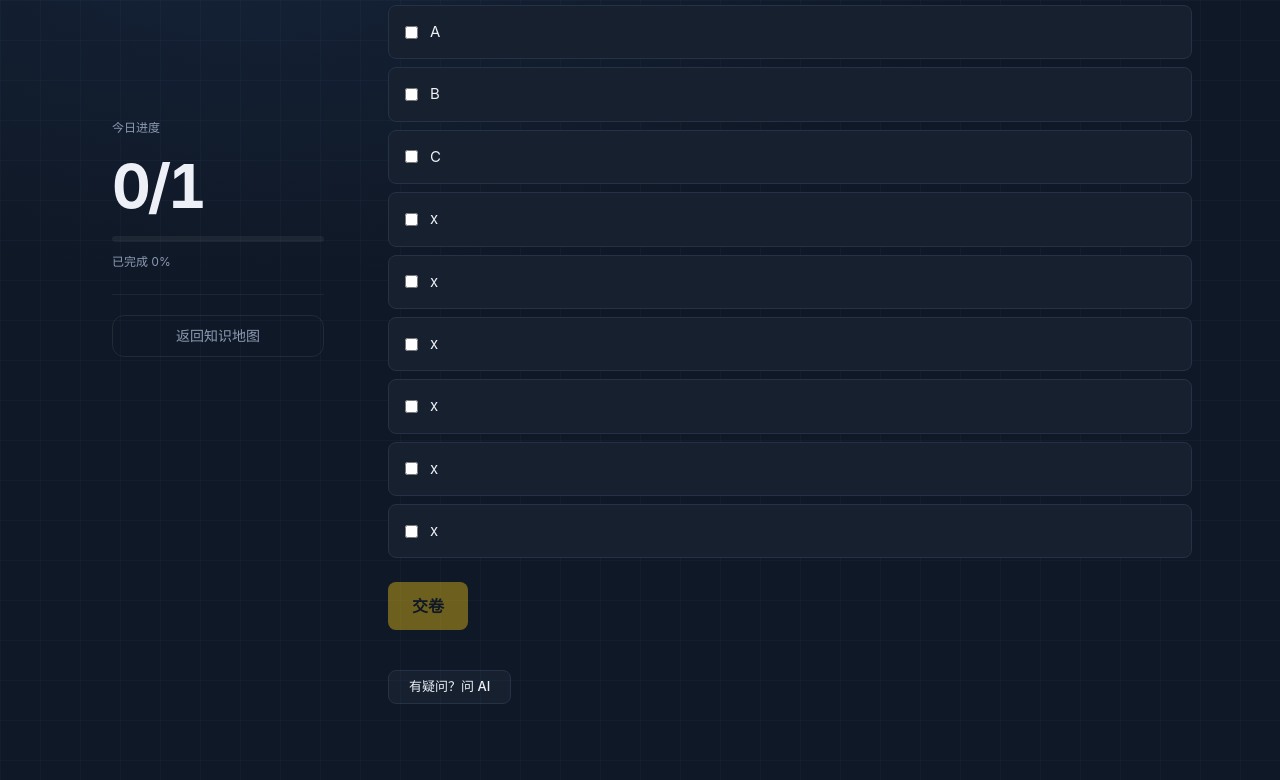
Test: 每轮思考各归各轮：第二轮提问不串上一轮的思考
(page scrolled)
Click the button "有疑问？问 AI".
click(450, 687)  # box [388,670,511,704]
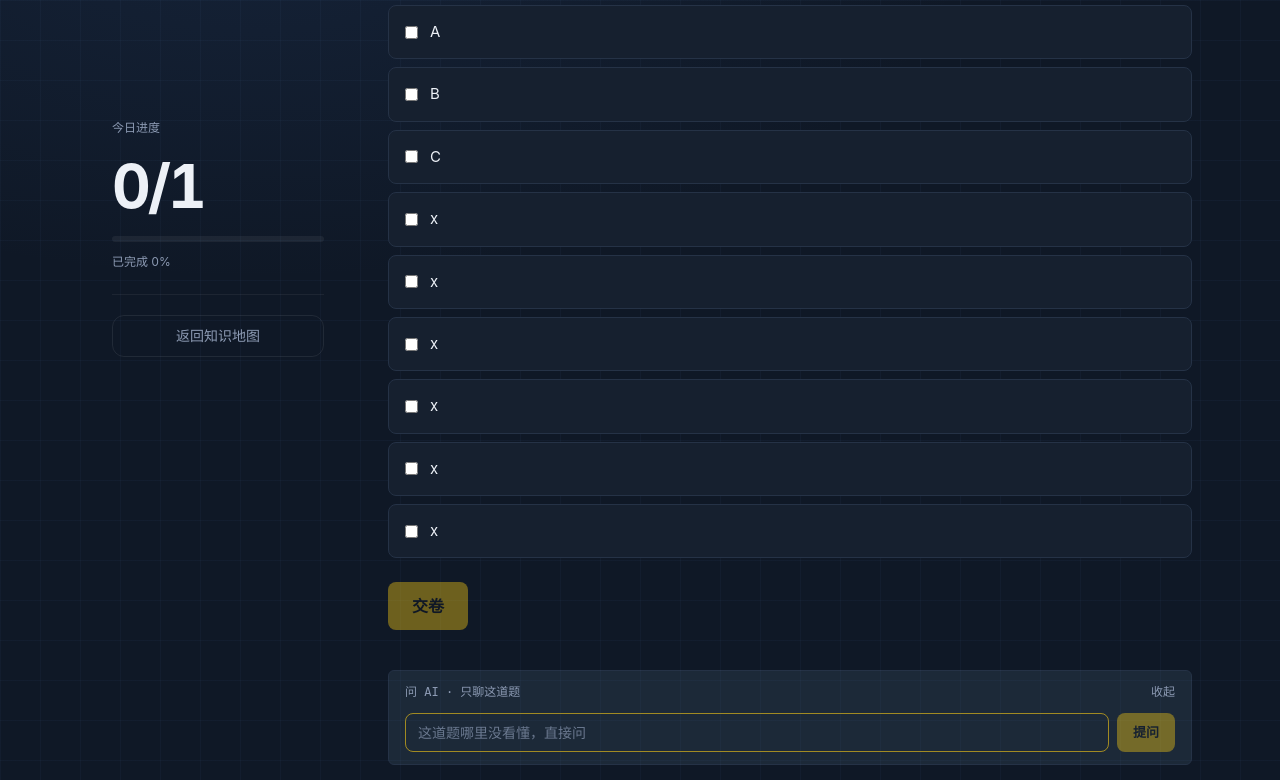
Type "第一问" into the field named "向 AI 提问".
click(757, 733); type("第一问")  # box [405,713,1109,752]
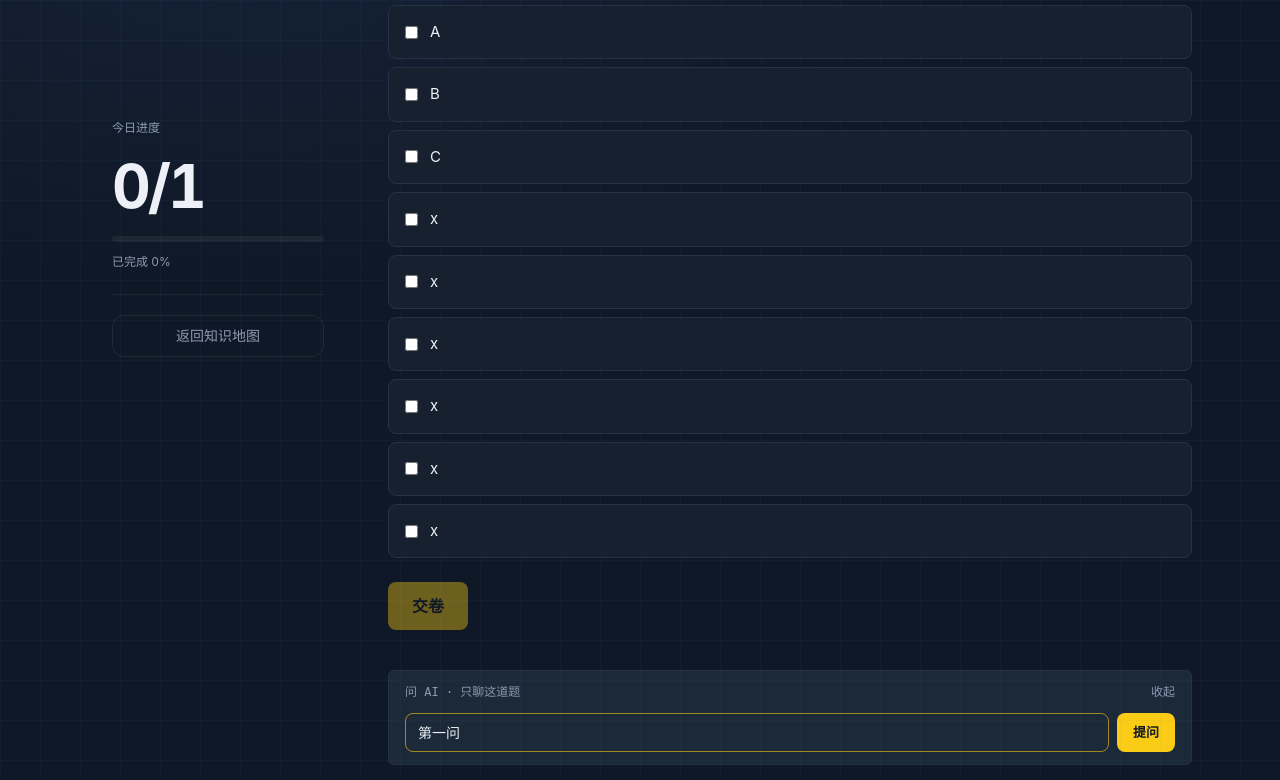
Click the button "提问".
click(1146, 733)  # box [1117,713,1175,752]
(page scrolled)
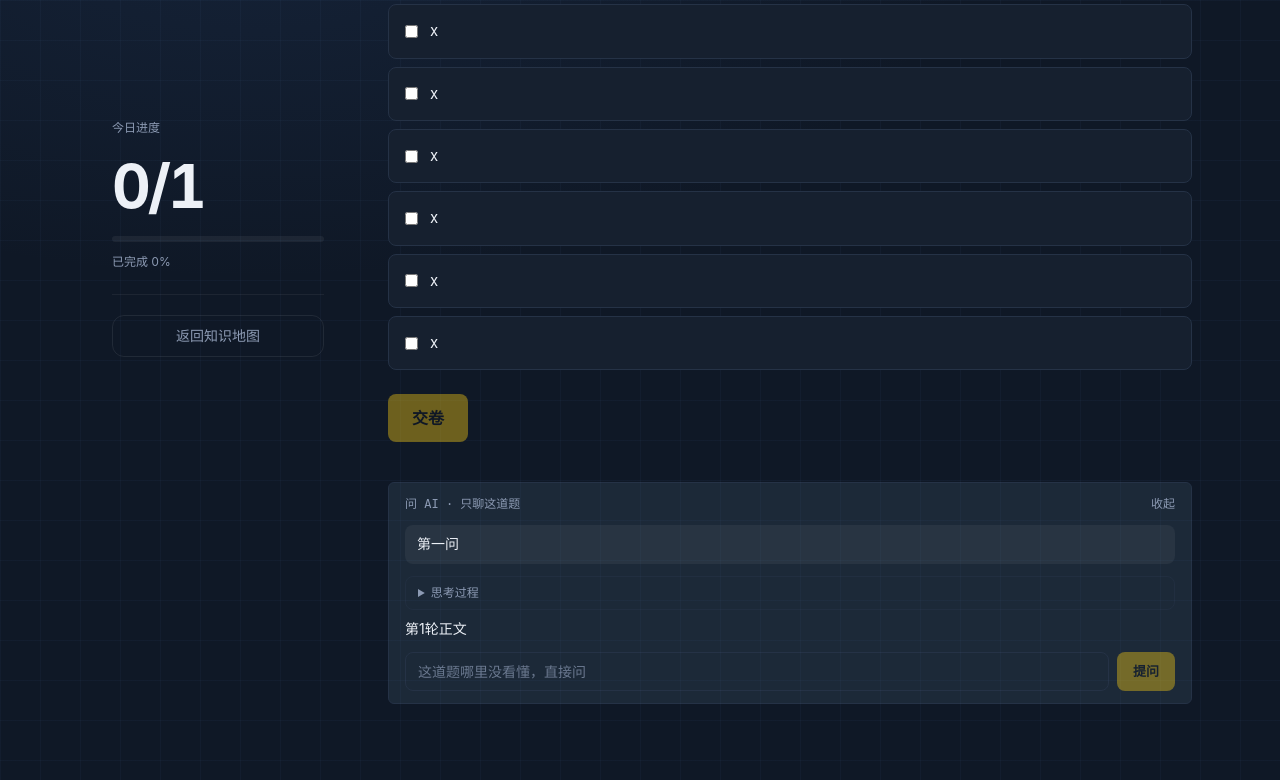
Result: the text "第1轮正文" is shown at [405,620,467,637]
Type "第二问" into the field named "向 AI 提问".
click(757, 672); type("第二问")  # box [405,652,1109,691]
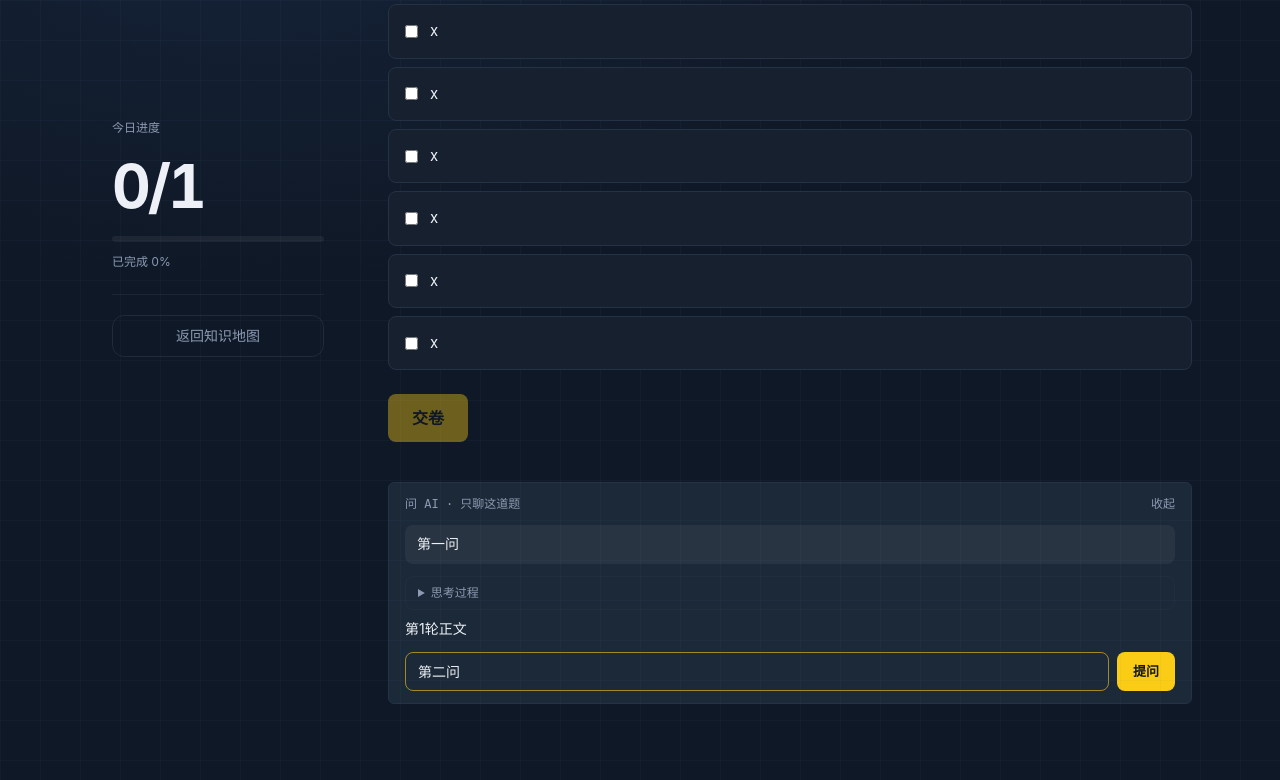
Click the button "提问".
click(1146, 672)  # box [1117,652,1175,691]
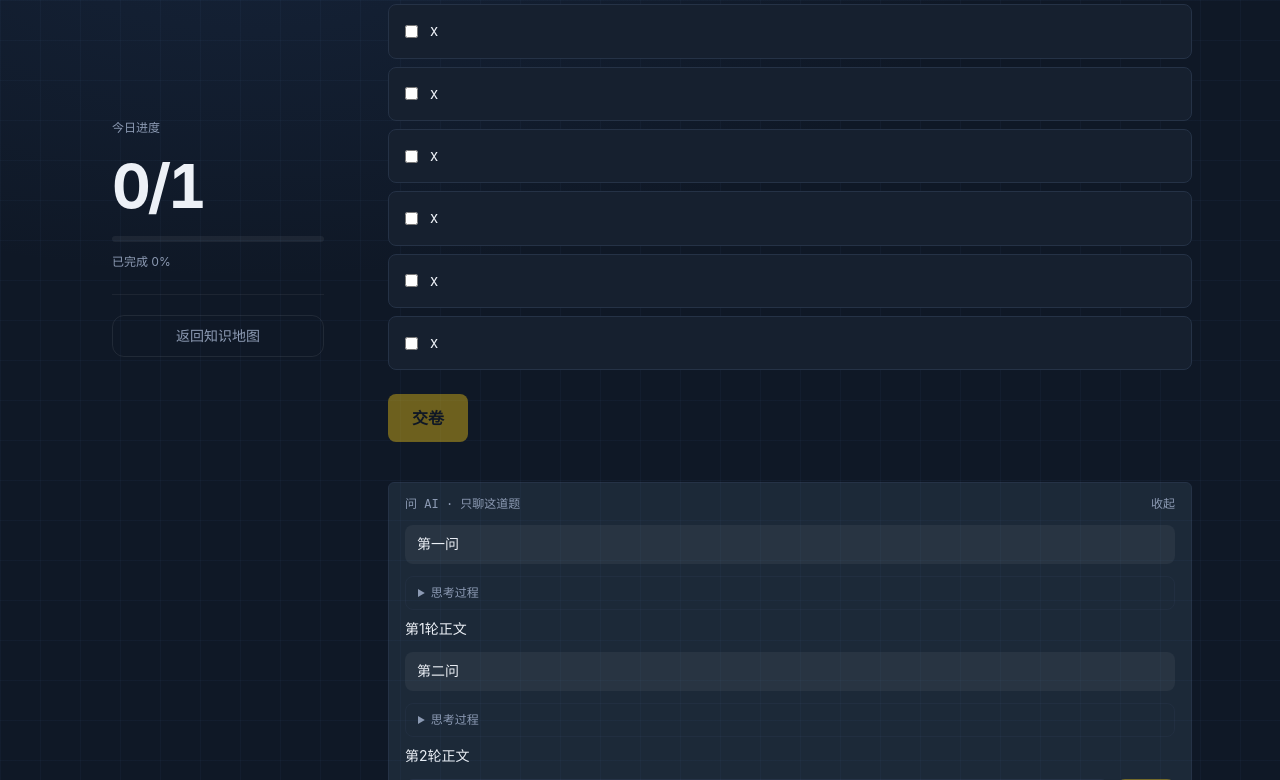
Result: the text "第2轮正文" is shown at [405,747,470,764]
Result: the number of headings "思考过程" is 2 at [431,585,479,600]; [431,712,479,727]
